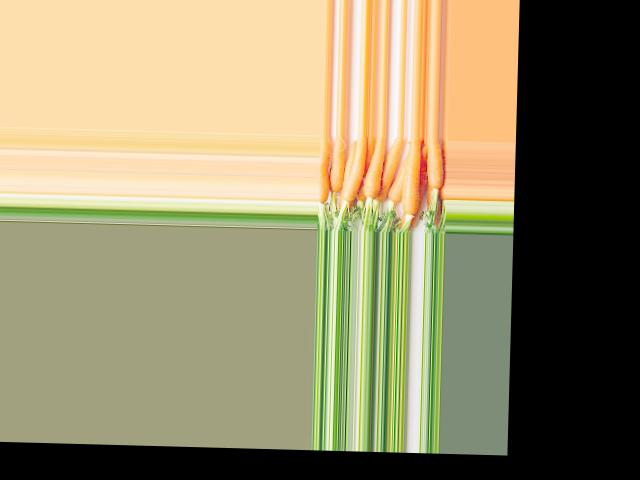carrot: (426, 136, 446, 198)
